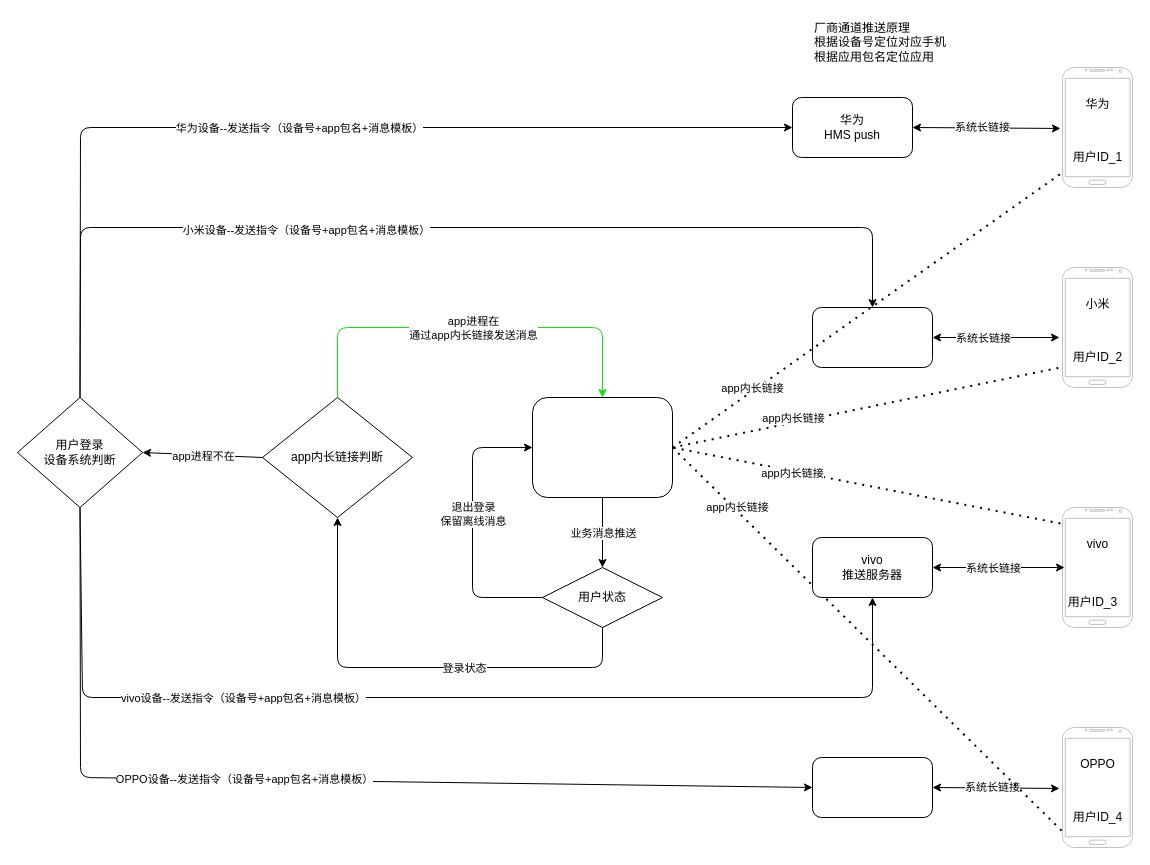
Some shapes in this 1150 by 865 pixel diagram are drawn without their labels. Here are the shapes that lost their labels. From the top down, the box of each, then its label:
(812, 306, 932, 368): 小米 xmpush
(532, 396, 672, 498): 极光服务器 用户ID 手机系统 设备号 应用包名 退出登录清除绑定数据
(812, 756, 932, 818): OPPO 推送服务器
